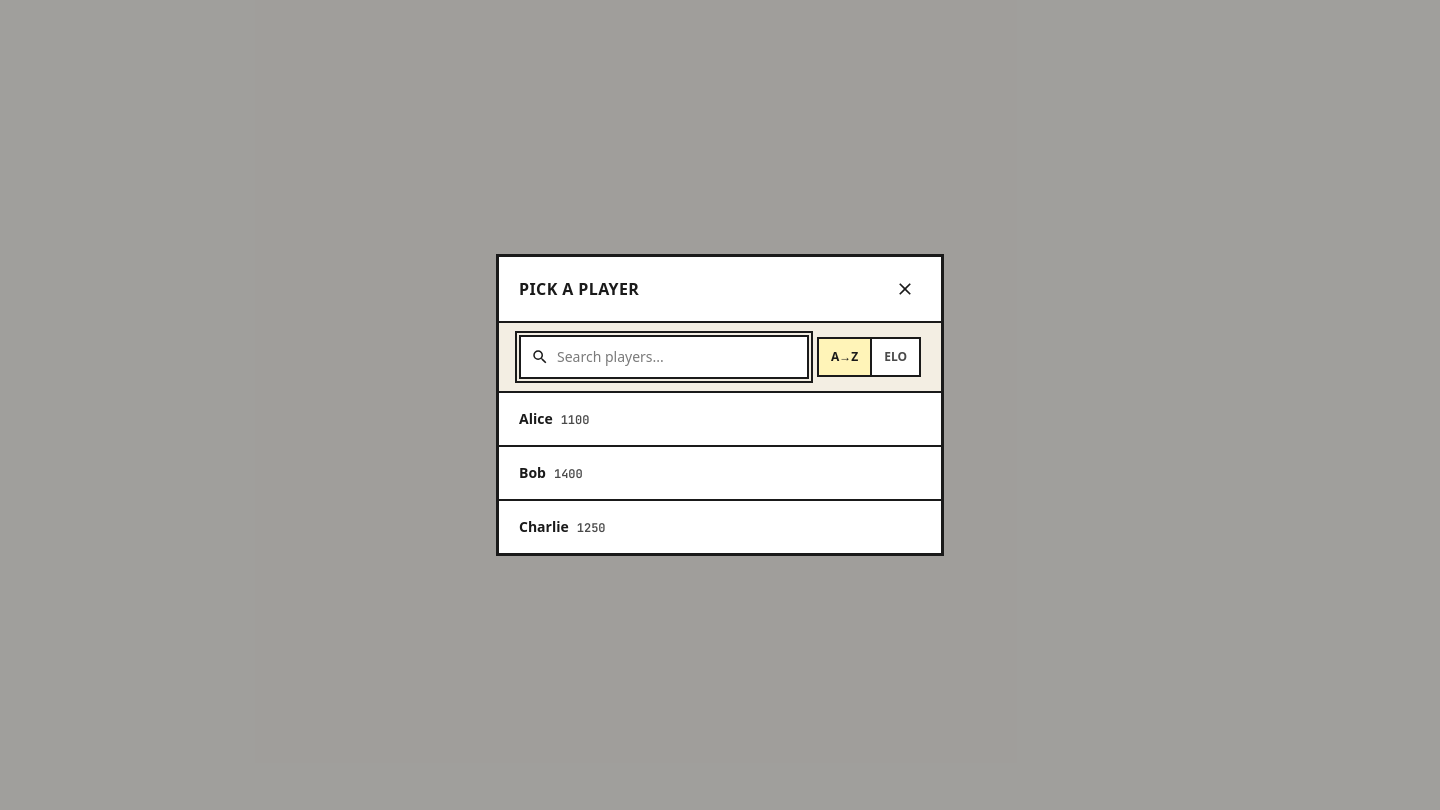
Test case: PlayerPicker › shows empty-state when search returns no matches
In the field with placeholder "Search players...": (664,357) [519,335,809,379], type "zzzz"
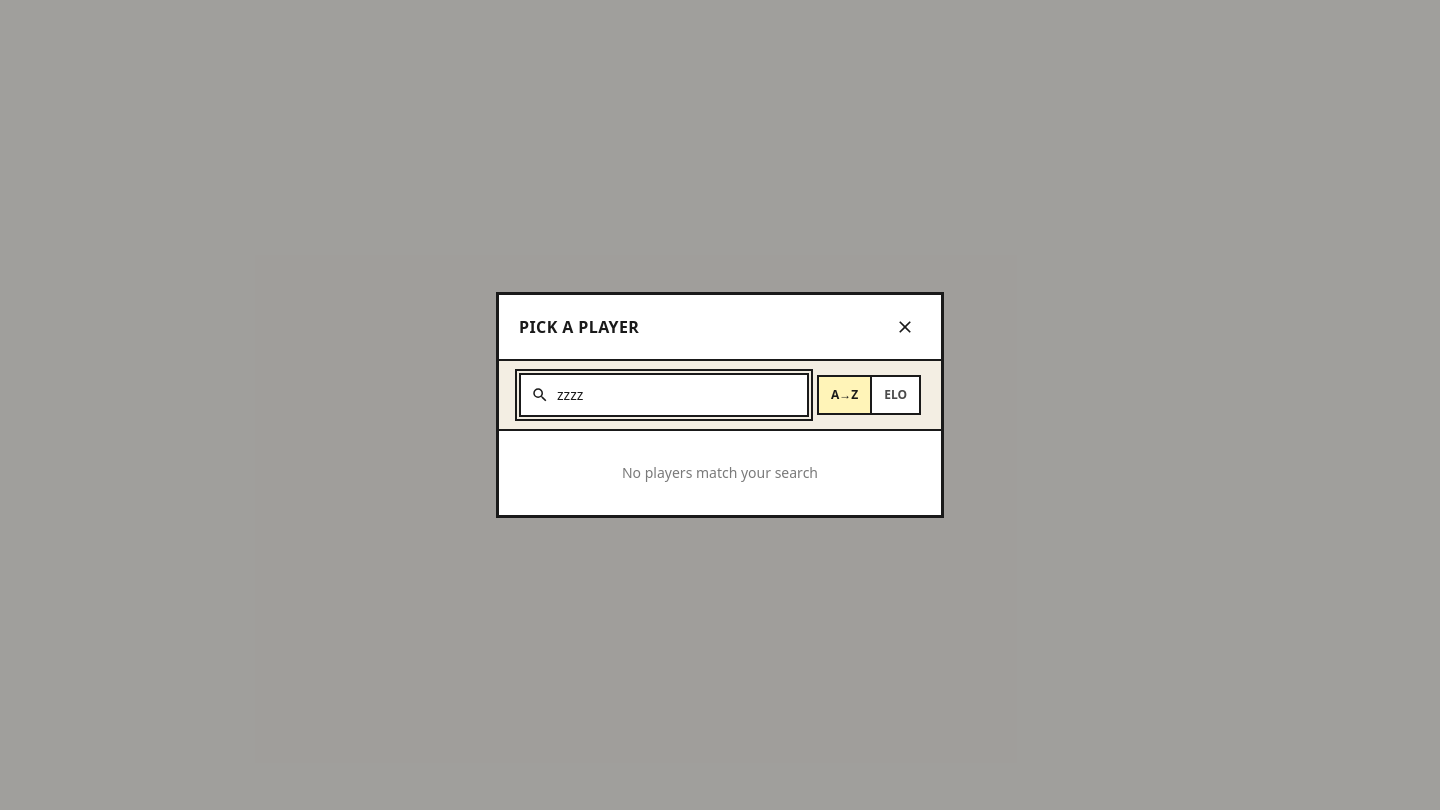
Now no options are shown
Now the list item "No players match your search" is shown, box [622,463,818,482]
